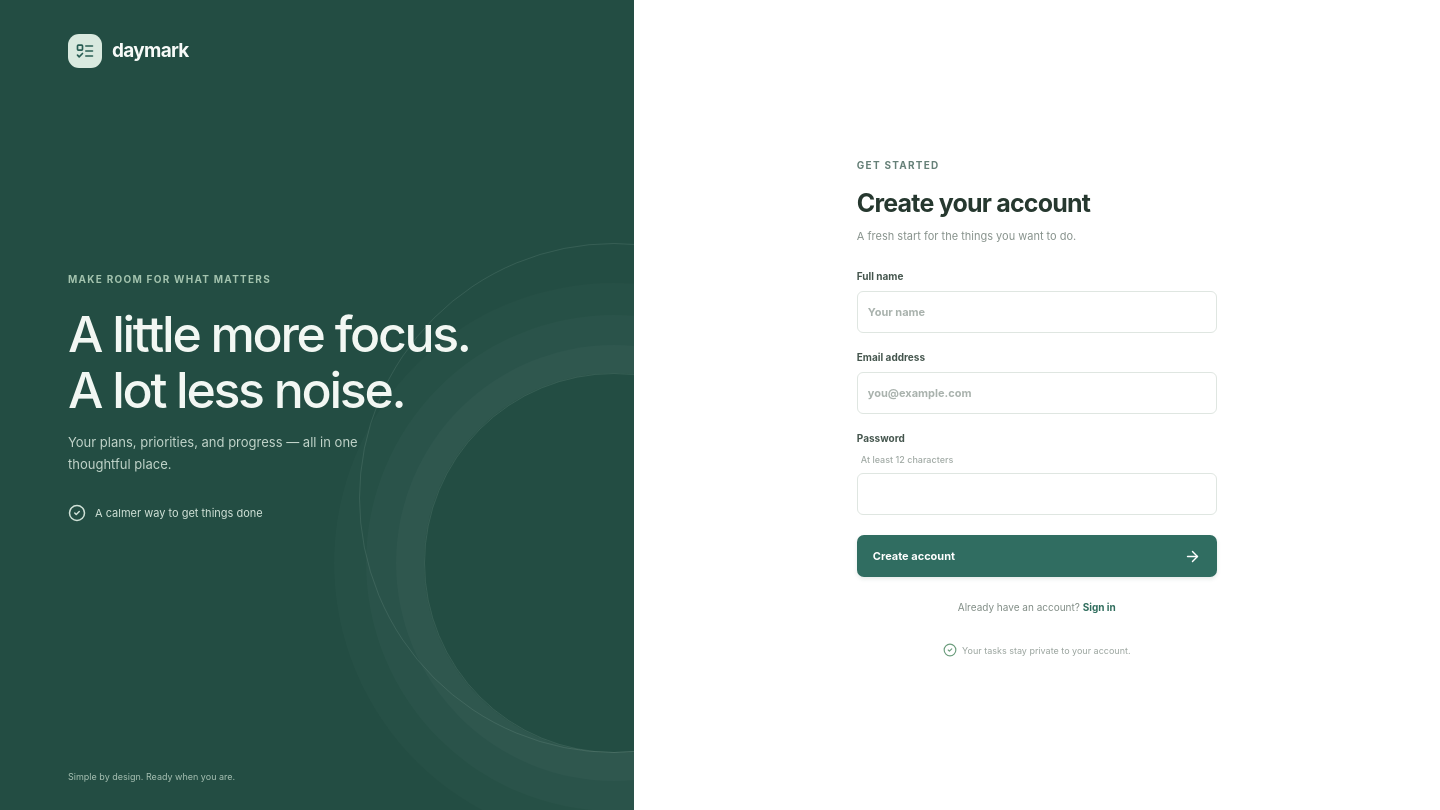
Test: authentication and route access › validates registration and returns to sign-in after a successful registration
Type "Morgan Lee" into the field labelled "Full name" at (1037, 312), box [857,291,1217,333]
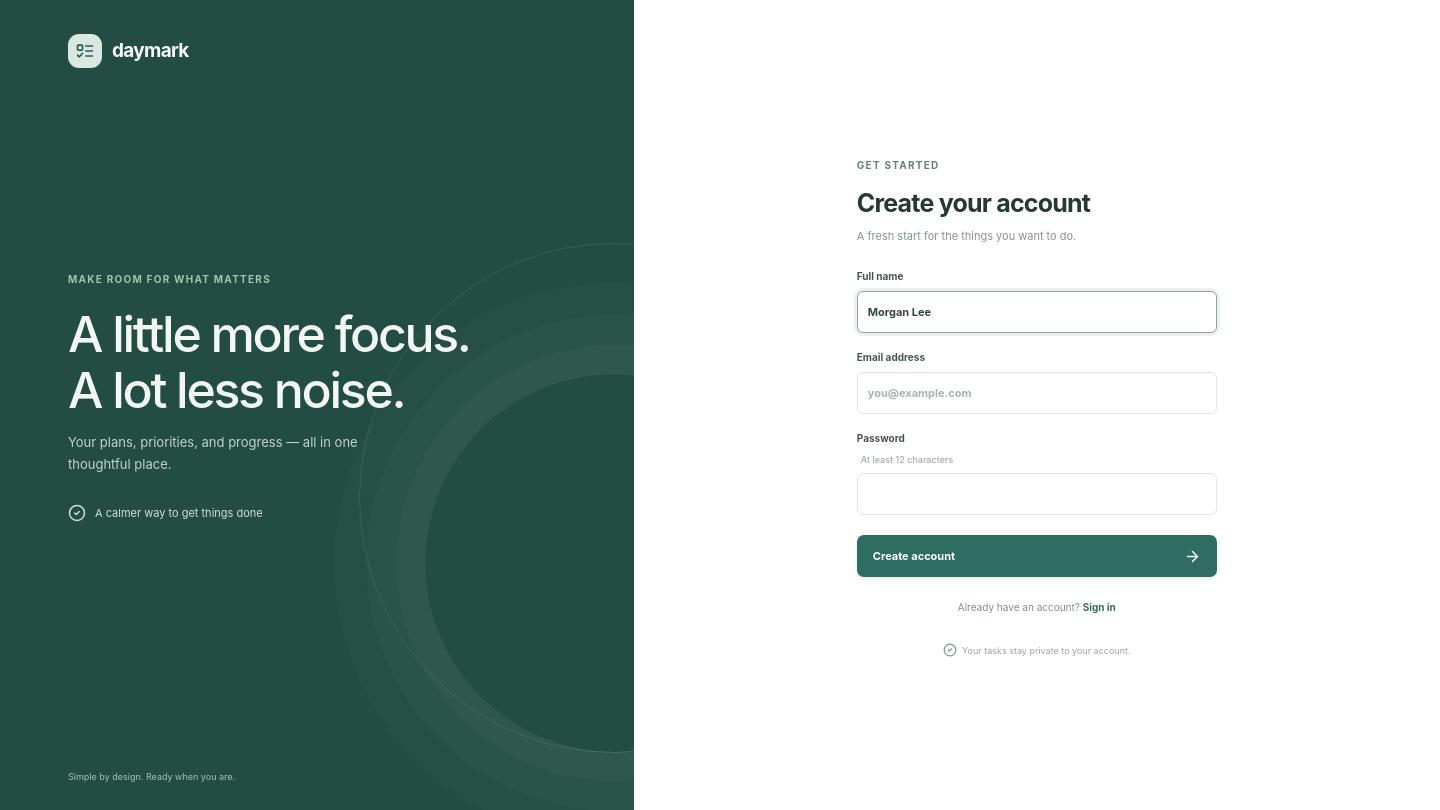
Type "morgan@example.com" into the field labelled "Email address" at (1037, 393), box [857,372,1217,414]
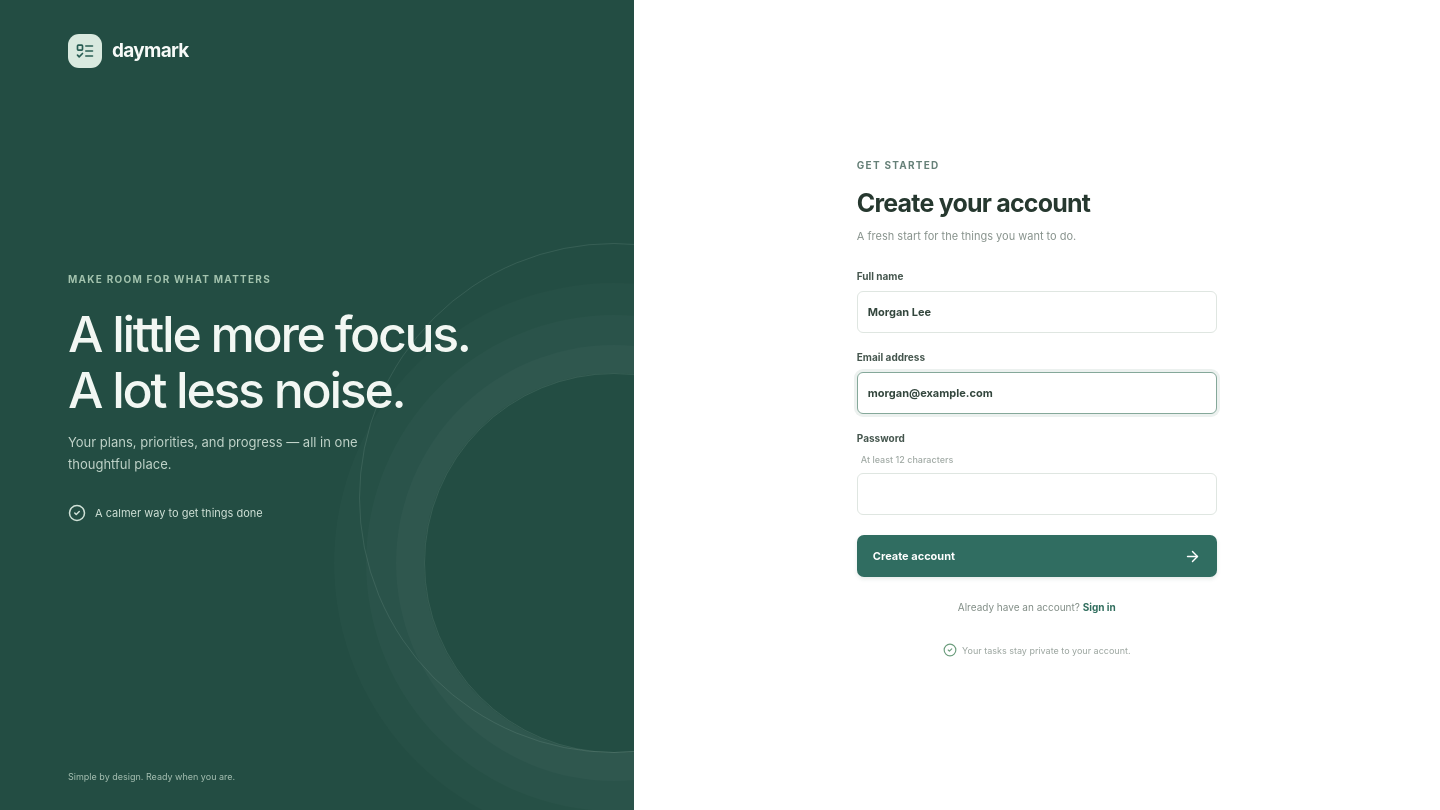
Type "short" into the password field labelled "Password" at (1037, 494), box [857,473,1217,515]
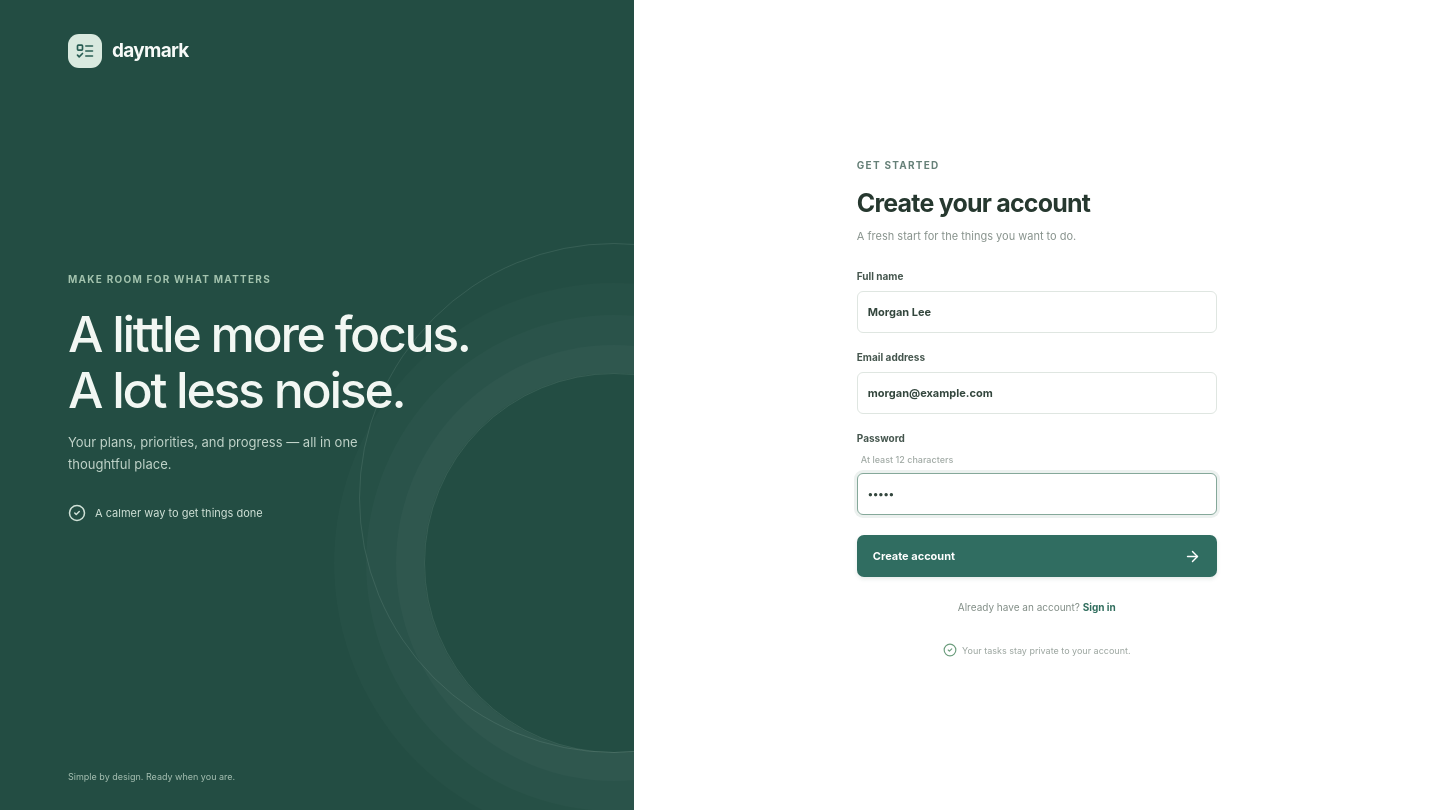
Click the button "Create account" at (914, 556), box [857,535,1217,577]
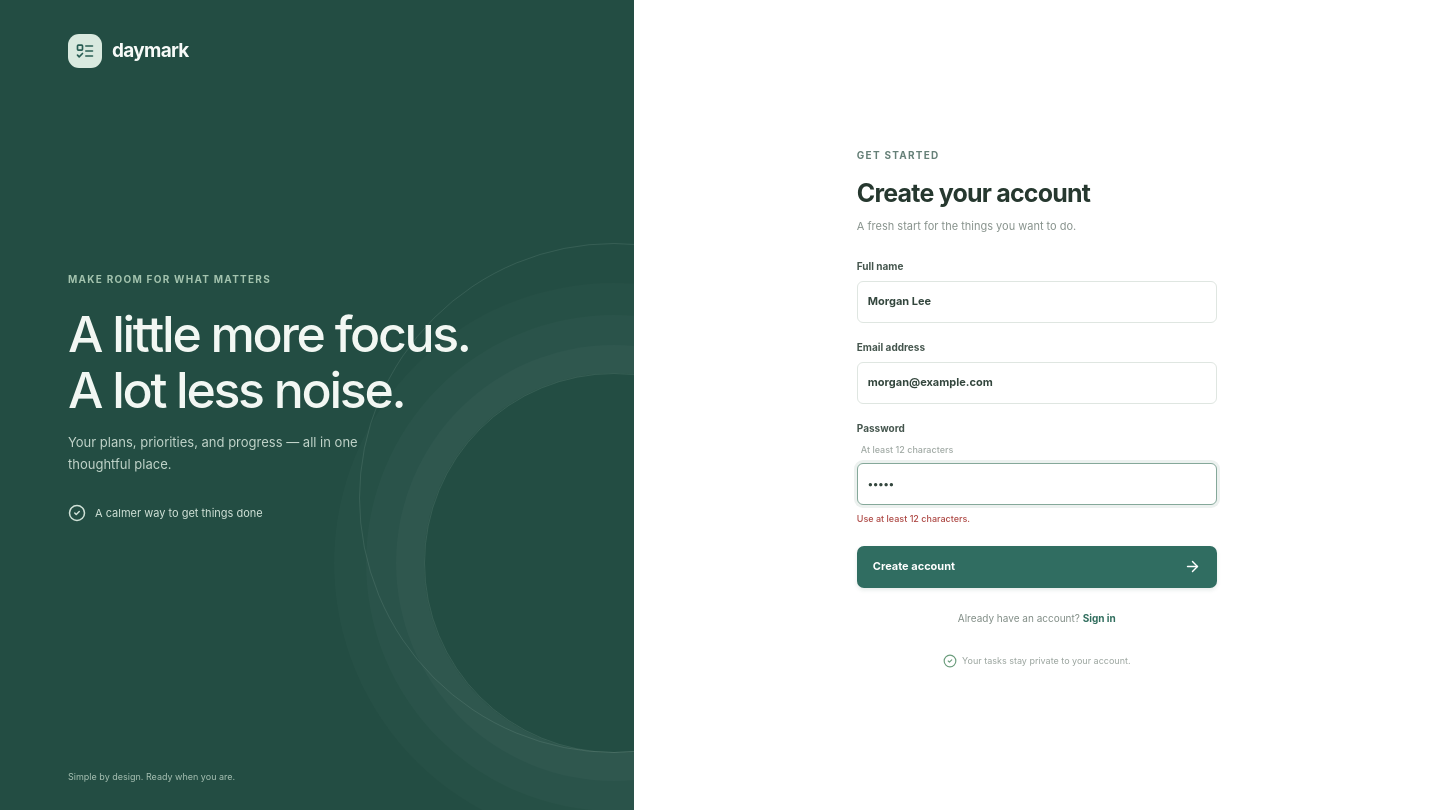
Expected: the text "Use at least 12 characters." is shown, [857,513,970,524]
Type "SecurePassword123!" into the password field labelled "Password" at (1037, 484), box [857,463,1217,505]
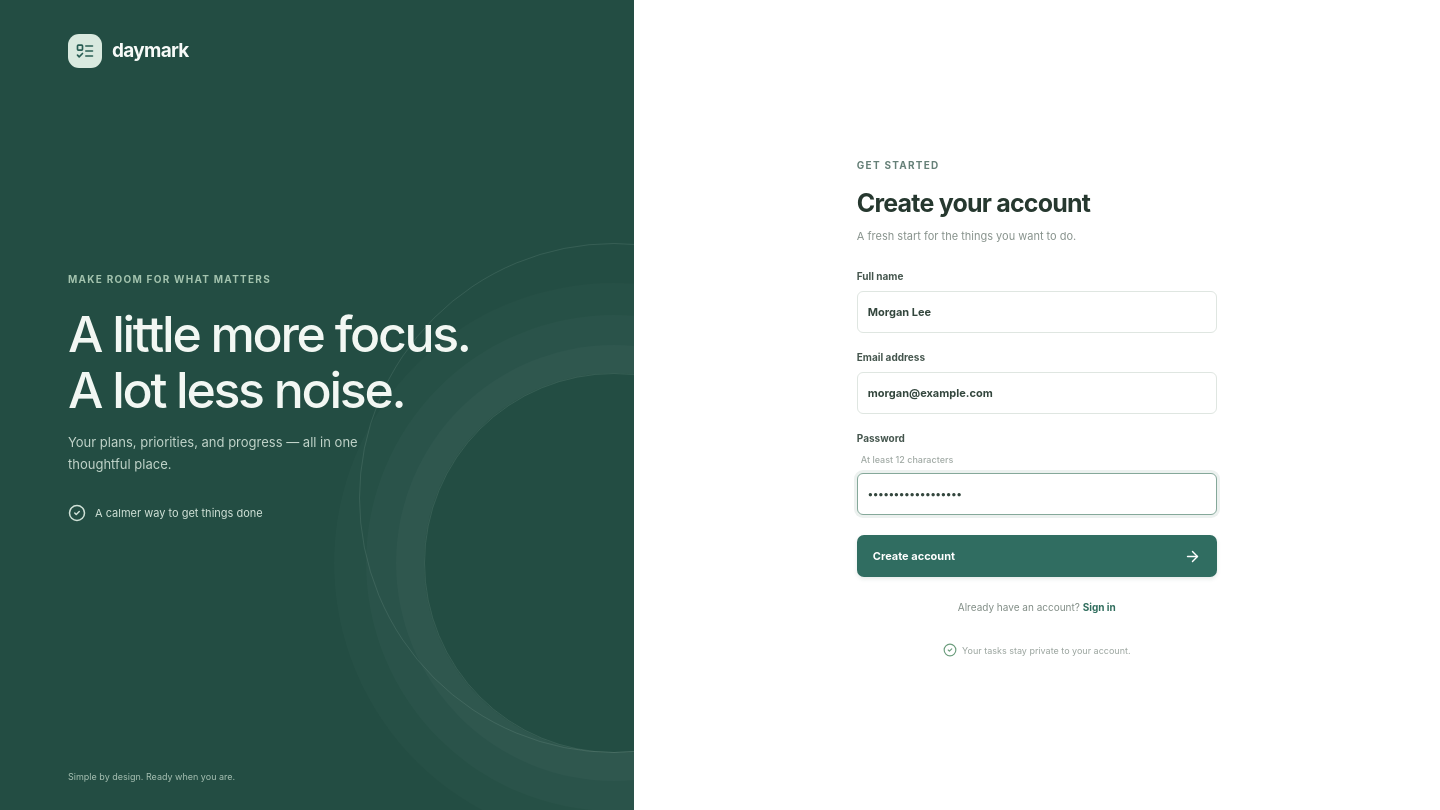
Click the button "Create account" at (914, 556), box [857,535,1217,577]
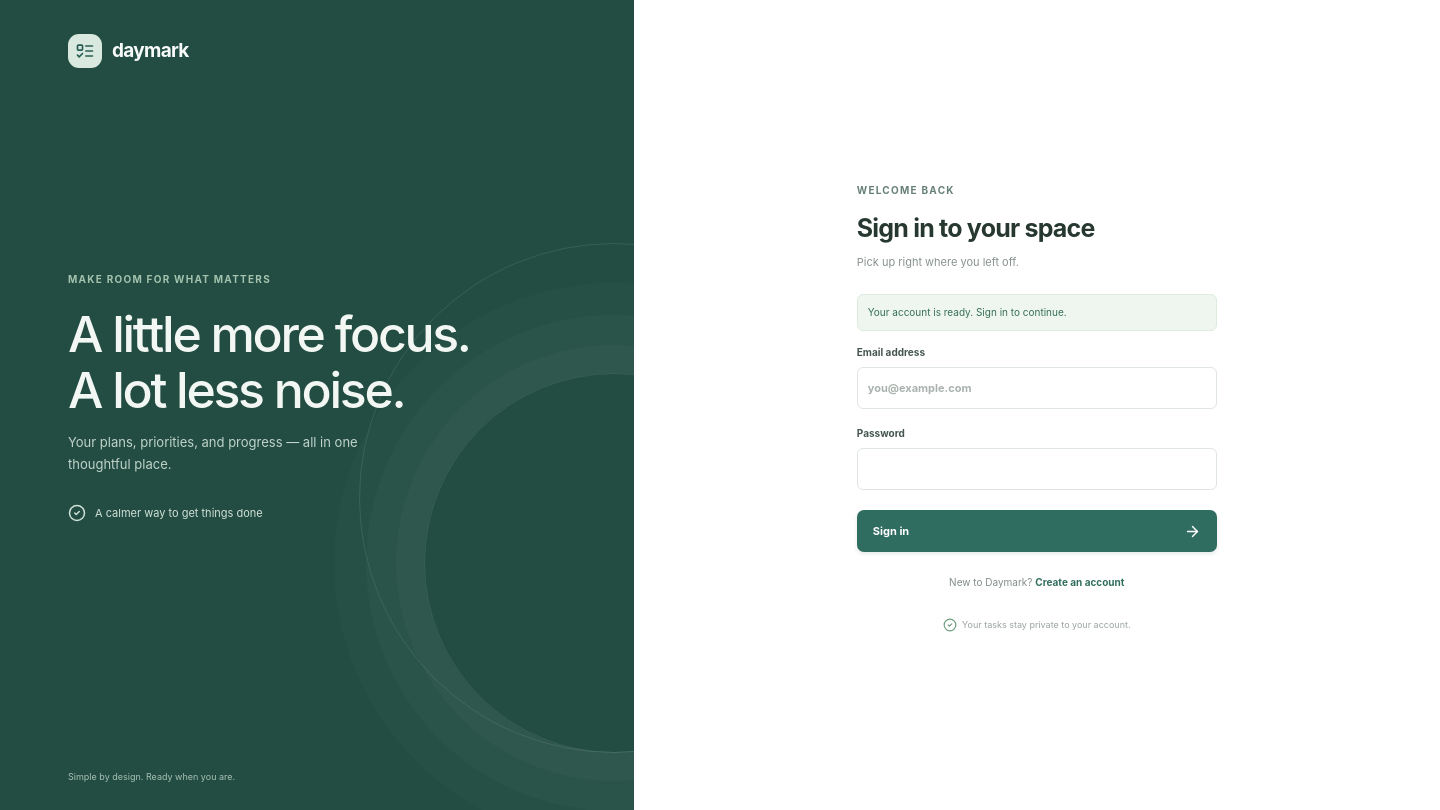
Expected: the heading "Sign in to your space" is shown, [857,213,1095,243]
